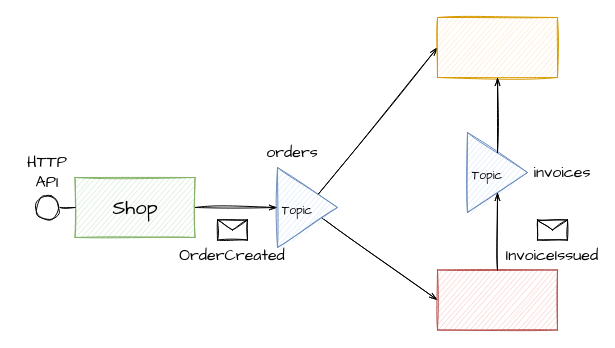
The diagram is 615 pixels wide and 348 high, and some of its shapes have lost their labels. The centre of each missing label's shape, as x and y in pixels:
"Delivery" belongs at (497,47).
"Payment" belongs at (497,299).
